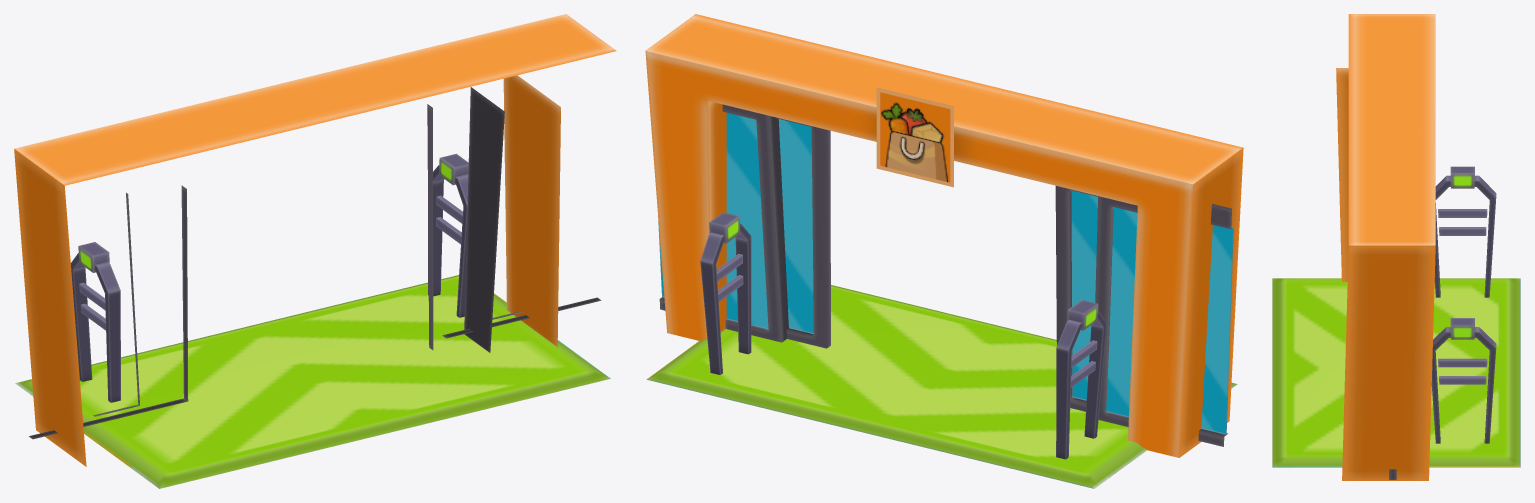
File: entrance.glb
3 views of the same model, side by side, from view 1: azimuth 30°, elevation 25°; view 2: azimuth 150°, elevation 25°; view 3: azimuth 270°, elevation 25° (orthographic). The views are drawn at different scales.
Parts seen in each view (by area): view 1: entrance_main_mod; view 2: entrance_main_mod; view 3: entrance_main_mod.
Boxes of the visible parts, x1=… form: entrance_main_mod: x1=14, y1=14, x2=616, y2=488; entrance_main_mod: x1=645, y1=14, x2=1243, y2=488; entrance_main_mod: x1=1272, y1=14, x2=1520, y2=480.
Bounding box in the file's own units: 9.12 × 4.54 × 3.88.
1 material, 1 textured.
